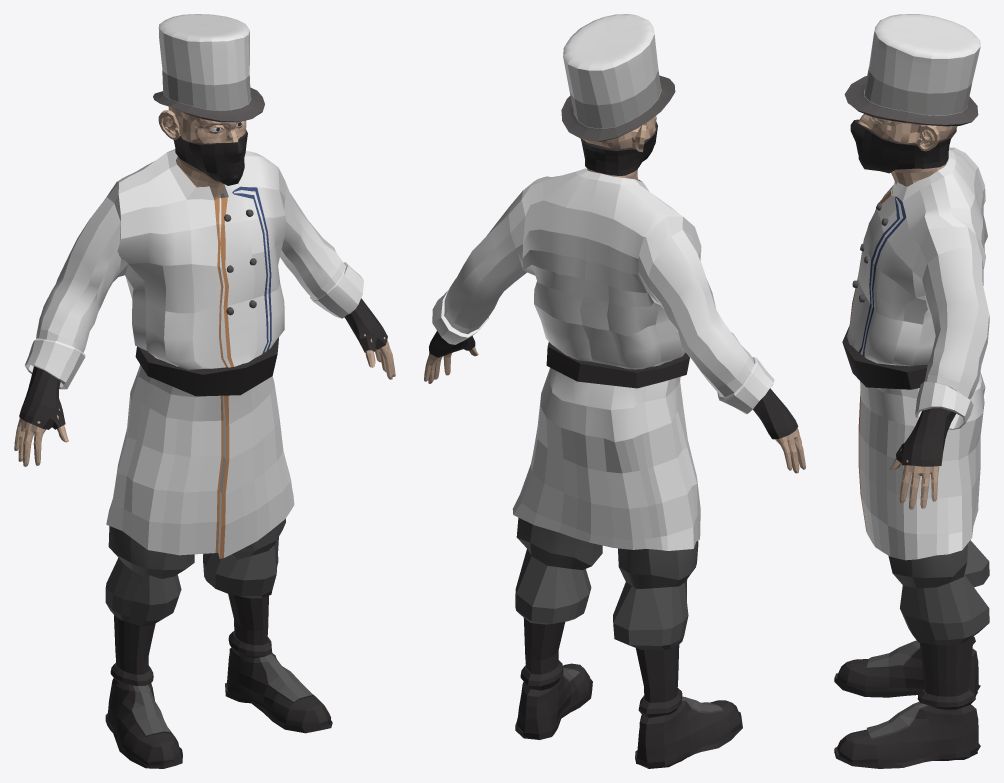
Rendered from Cozinheiro.fbx.
3 views of the same model, side by side, from view 1: azimuth 30°, elevation 25°; view 2: azimuth 150°, elevation 25°; view 3: azimuth 270°, elevation 25° (orthographic).
Parts seen in each view (by area): view 1: polySurface3, Legs, polySurface1, Belt, Head, Mask, Glove_R, Glove_L, Arm_R; view 2: polySurface3, Legs, polySurface1, Belt, Mask, Glove_R, Head, Arm_R; view 3: polySurface3, Legs, polySurface1, Mask, Head, Glove_L, Belt, Arm_L.
Boxes of the visible parts, <box> form: polySurface3: <box>24,149,363,558</box>; Legs: <box>105,518,332,768</box>; polySurface1: <box>153,14,264,122</box>; Belt: <box>135,337,278,396</box>; Head: <box>158,106,246,200</box>; Mask: <box>173,129,247,185</box>; Glove_R: <box>19,366,65,429</box>; Glove_L: <box>344,298,387,352</box>; Arm_R: <box>14,409,68,466</box>; polySurface3: <box>432,168,774,550</box>; Legs: <box>515,517,742,768</box>; polySurface1: <box>561,14,675,141</box>; Belt: <box>546,342,689,388</box>; Mask: <box>581,122,657,175</box>; Glove_R: <box>753,388,798,439</box>; Head: <box>583,116,656,180</box>; Arm_R: <box>775,428,805,473</box>; polySurface3: <box>847,147,989,560</box>; Legs: <box>834,540,989,768</box>; polySurface1: <box>844,14,980,126</box>; Mask: <box>850,119,956,173</box>; Head: <box>858,114,957,186</box>; Glove_L: <box>896,408,956,466</box>; Belt: <box>842,326,927,389</box>; Arm_L: <box>889,449,939,509</box>.
Bounding box in the file's own units: 110 × 198 × 40.12.
